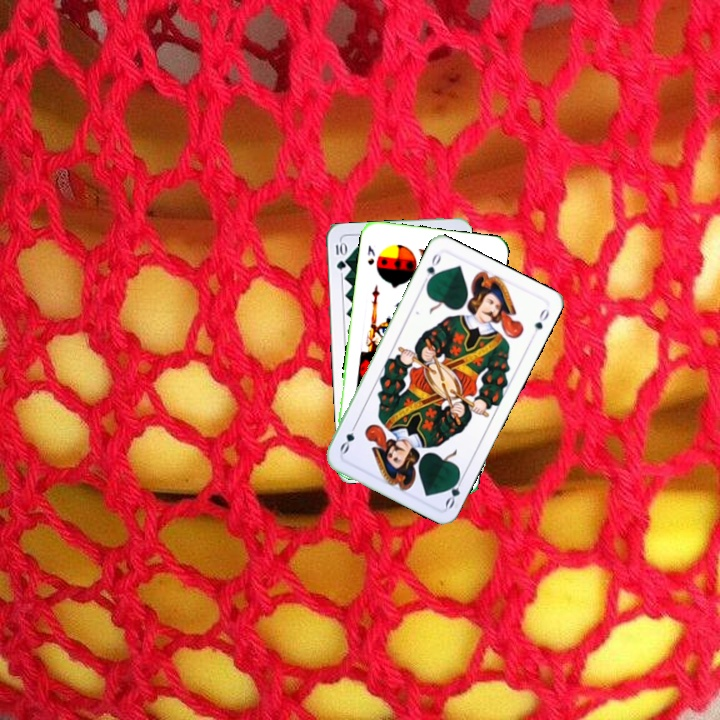G10: (332, 238, 349, 273)
GO: (441, 471, 467, 511), (419, 249, 444, 288)
SK: (363, 241, 377, 267)
